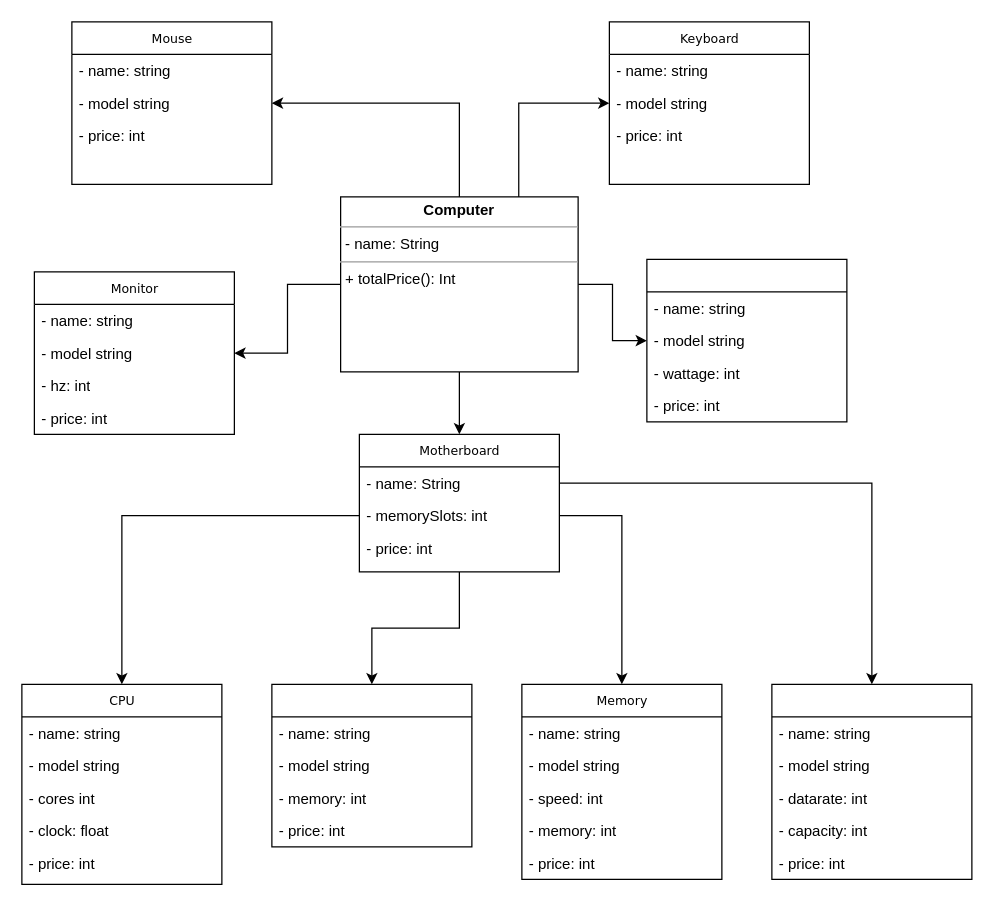
This 994x906 diagram has some shape labels left out. The box of each missing label's shape, as (x1, y1, x2, y2) in pixels:
GPU: (271, 683, 472, 847)
PowerSupply: (646, 258, 847, 422)
Storage: (771, 683, 972, 879)
